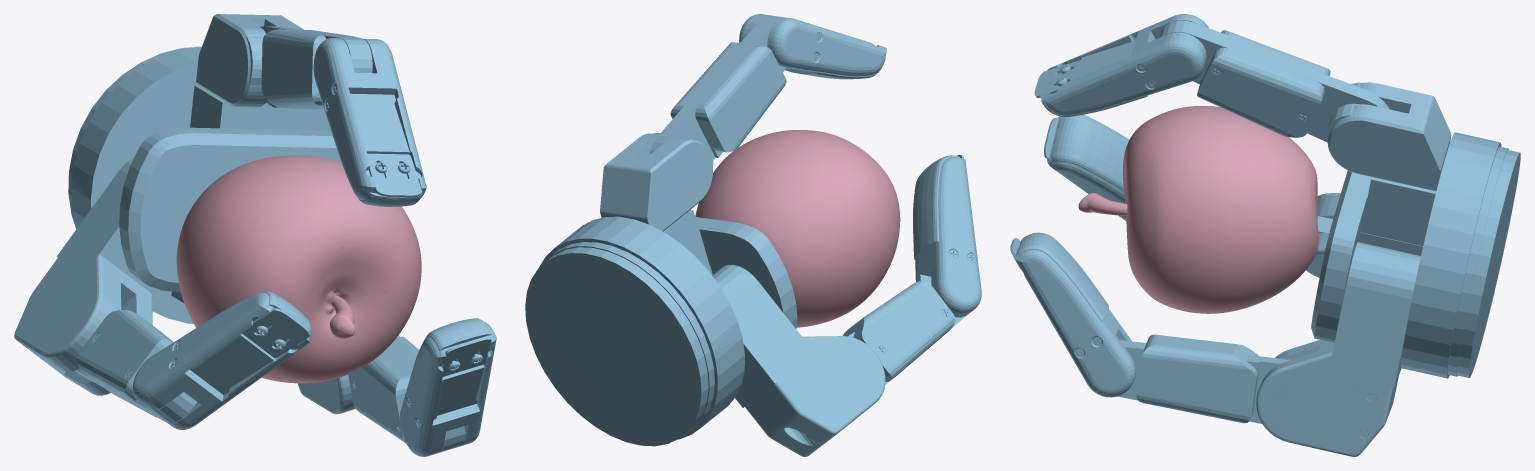
3 views of the same model, side by side, from view 1: azimuth 30°, elevation 25°; view 2: azimuth 150°, elevation 25°; view 3: azimuth 270°, elevation 25° (orthographic). The views are drawn at different scales.
Parts seen in each view (by area): view 1: world, apple.stl; view 2: world, apple.stl; view 3: world, apple.stl.
Boxes of the visible parts, bbox=[...] form: world: bbox=[14, 14, 496, 456]; apple.stl: bbox=[176, 155, 421, 383]; world: bbox=[525, 14, 981, 456]; apple.stl: bbox=[695, 130, 900, 327]; world: bbox=[1010, 14, 1520, 456]; apple.stl: bbox=[1078, 106, 1318, 313].
Size of the model in its own units: 0.1336 by 0.1593 by 0.1875.
